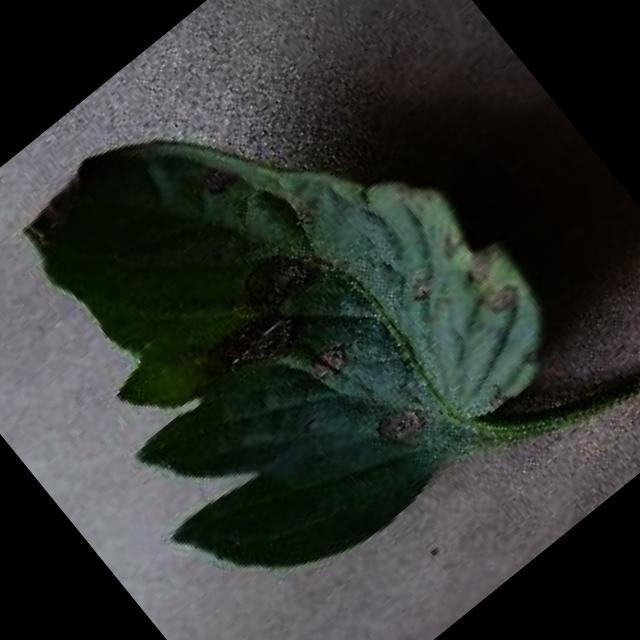Tomato Early blight leaf: (0, 0, 596, 639)
